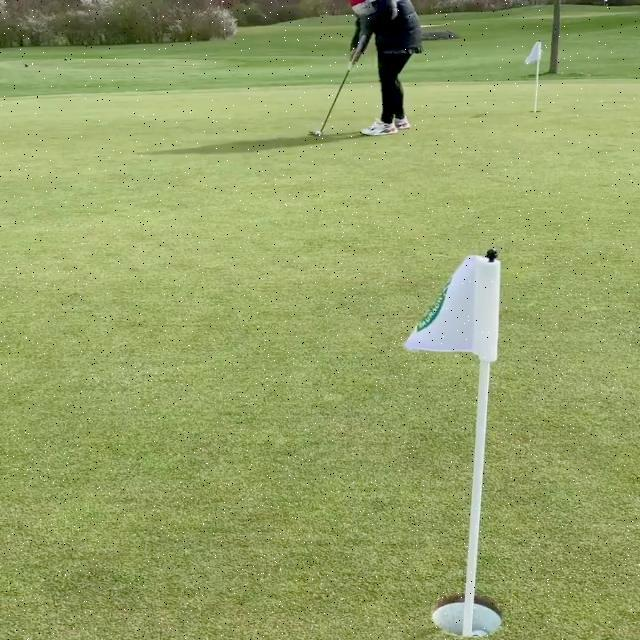golf ball: (315, 132, 322, 136)
golf club-handle: (306, 34, 367, 137)
golf club-head: (310, 131, 325, 135)
